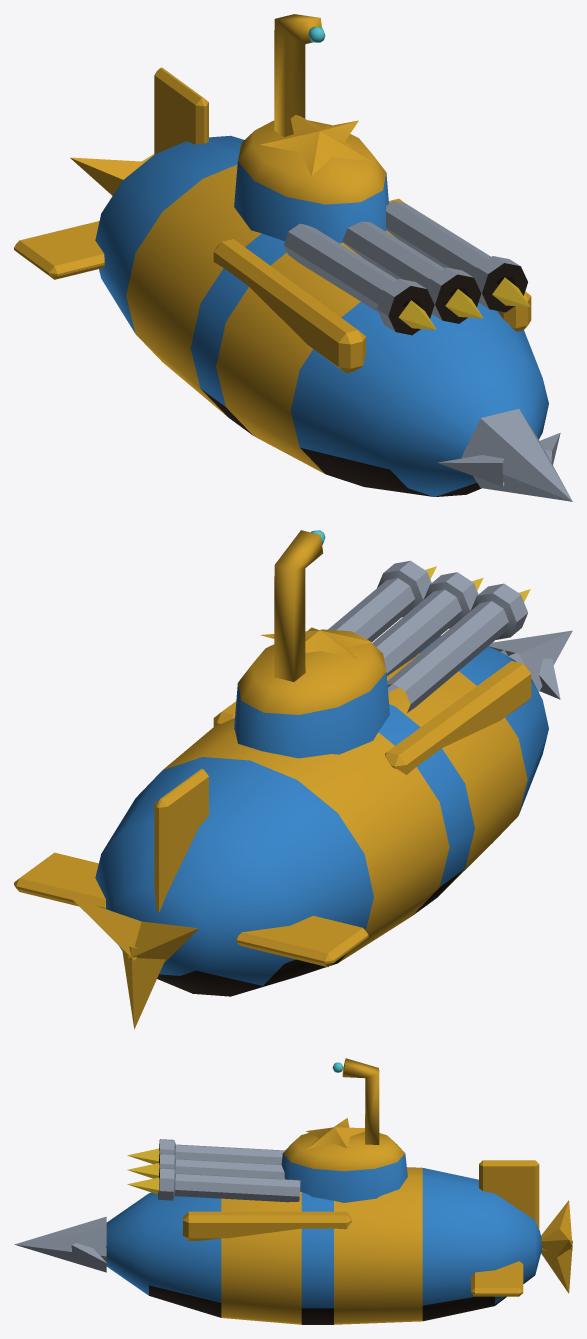
The picture shows the model from 3 angles, top to bottom: view 1: azimuth 30°, elevation 25°; view 2: azimuth 150°, elevation 25°; view 3: azimuth 270°, elevation 25°; orthographic projection. The views are drawn at different scales.
Parts seen in each view (by area): view 1: submarino_0_base, submarino_1_torreta; view 2: submarino_0_base, submarino_1_torreta; view 3: submarino_0_base, submarino_1_torreta.
Boxes of the visible parts, x1=… form: submarino_0_base: x1=14, y1=67, x2=572, y2=501; submarino_1_torreta: x1=234, y1=14, x2=530, y2=335; submarino_0_base: x1=14, y1=630, x2=572, y2=1029; submarino_1_torreta: x1=234, y1=530, x2=530, y2=758; submarino_0_base: x1=14, y1=1160, x2=572, y2=1324; submarino_1_torreta: x1=127, y1=1058, x2=407, y2=1202.
Size of the model in its own units: 0.58 by 0.6953 by 1.39.
